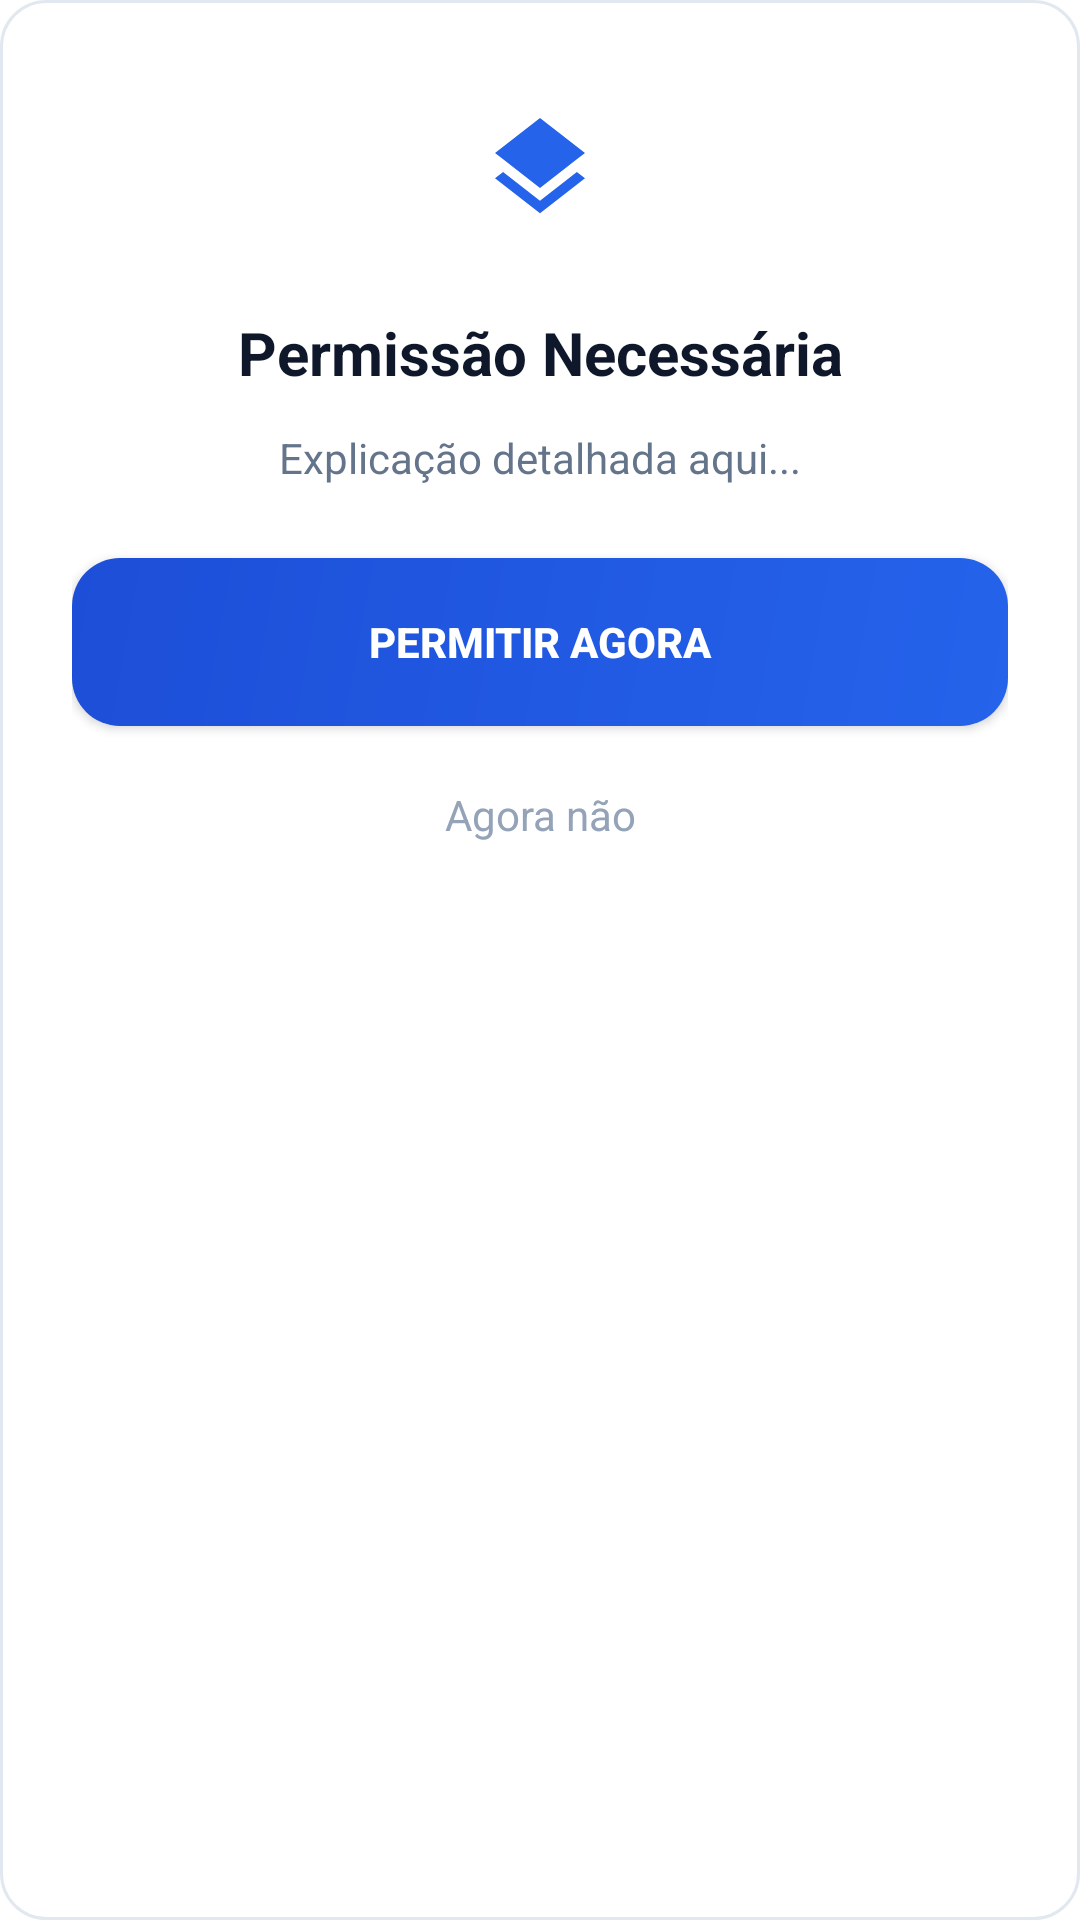

Screen size 1080×1920. Icon name, then its center in pixels as [x,y]:
permission layers: [540,165]
